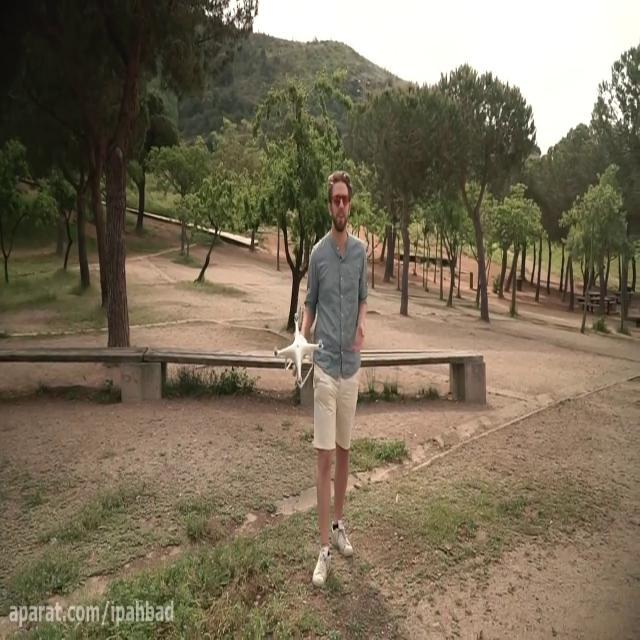drones: (267, 312, 324, 388)
